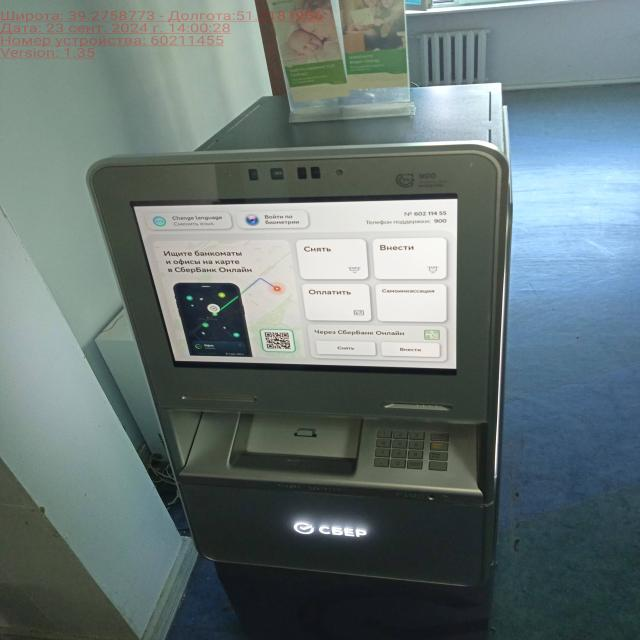bank: (76, 72, 522, 640)
